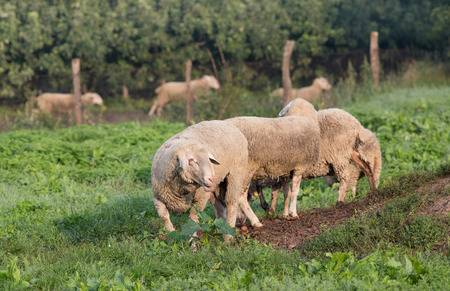sheep: (152, 120, 247, 236), (241, 94, 320, 217), (319, 99, 384, 203), (148, 70, 221, 119), (36, 84, 105, 126), (279, 75, 332, 108)
